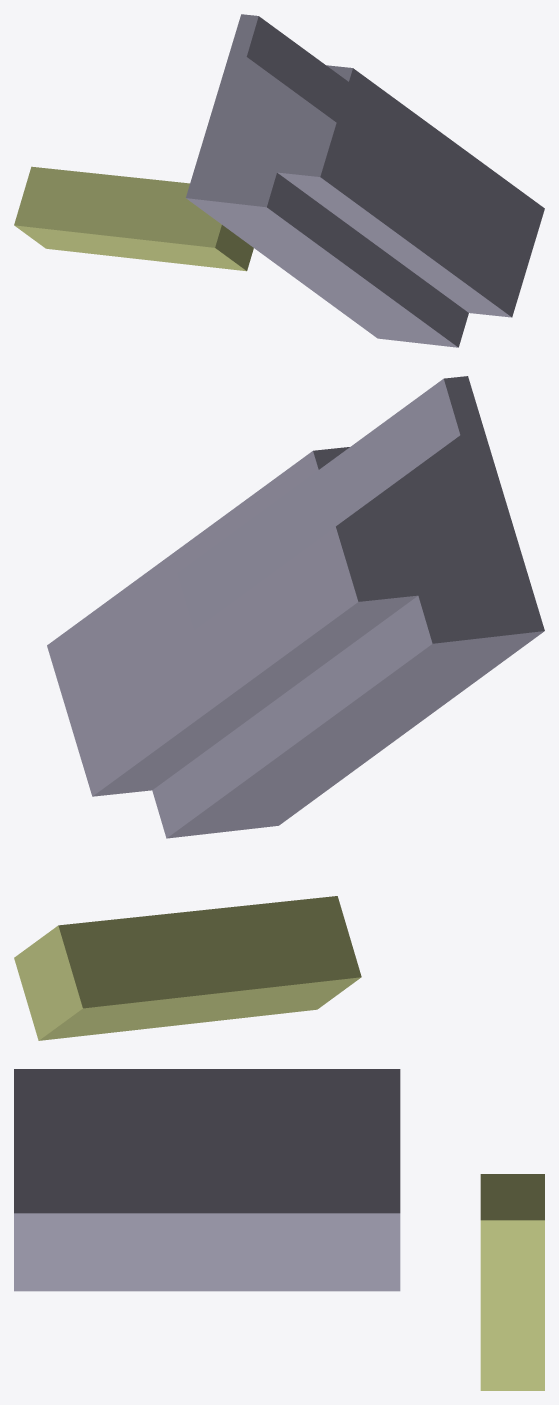
3 renders of one model, top to bottom at view 1: azimuth 30°, elevation 25°; view 2: azimuth 150°, elevation 25°; view 3: azimuth 270°, elevation 25°, orthographic. The views are drawn at different scales.
Visible parts, largest first — view 1: 0_0_1_3_3_2_3_2_1; view 2: 0_0_1_3_3_2_3_2_1; view 3: 0_0_1_3_3_2_3_2_1.
Boxes of the visible parts, x1,y1,x2,y2 form: 0_0_1_3_3_2_3_2_1: (14, 14, 544, 347); 0_0_1_3_3_2_3_2_1: (14, 376, 544, 1040); 0_0_1_3_3_2_3_2_1: (14, 1069, 544, 1390).
Bounding box in the file's own units: 28.92 × 30.79 × 49.5.
